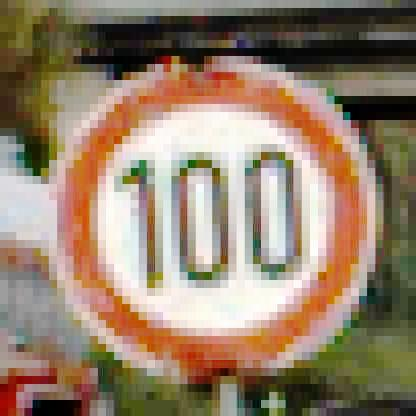Speed Limit -100-: (47, 59, 386, 394)
